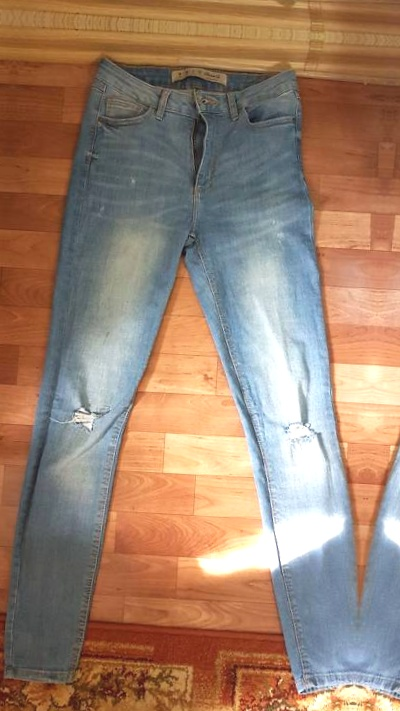Pants: (1, 46, 391, 711), (354, 68, 400, 711), (45, 0, 400, 14), (398, 0, 400, 35)
